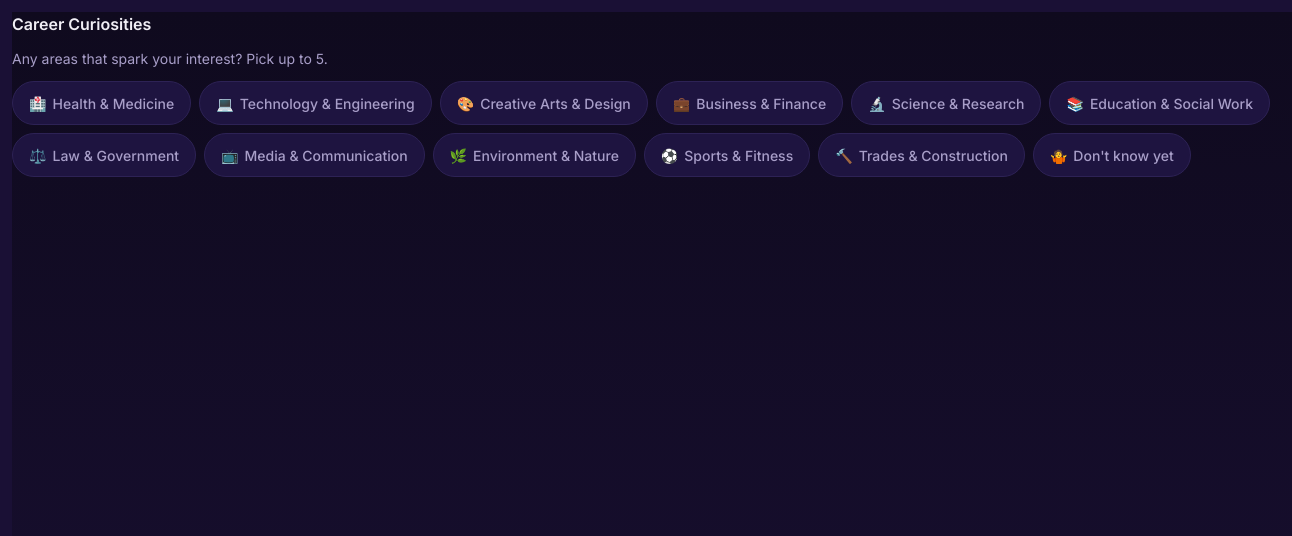
Scenario: CuriositiesPicker › frees a slot when a pick is tapped again
Click the checkbox labelled "Health & Medicine": (102, 103) [12,81,191,125]
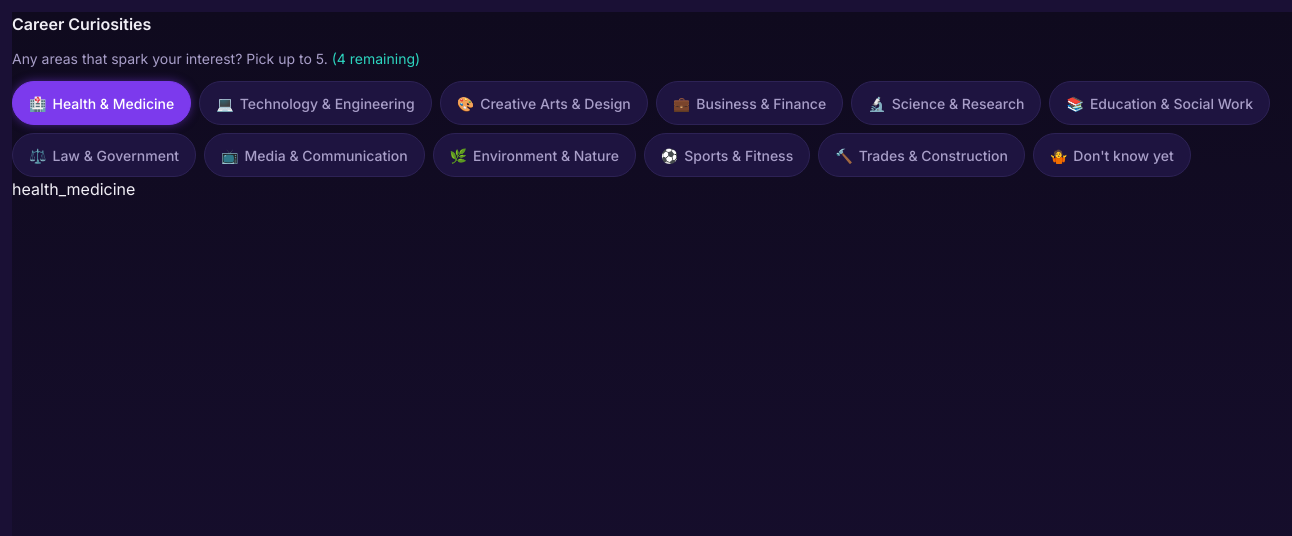
Click the checkbox labelled "Technology & Engineering": (315, 103) [199,81,432,125]
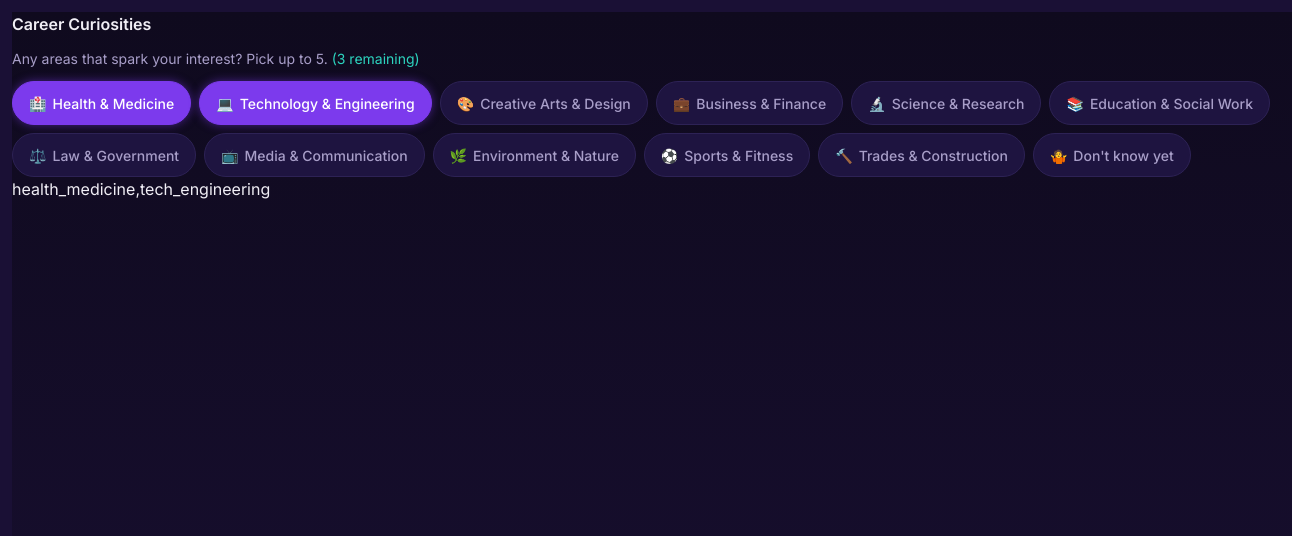
Click the checkbox labelled "Creative Arts & Design": (544, 103) [440,81,648,125]
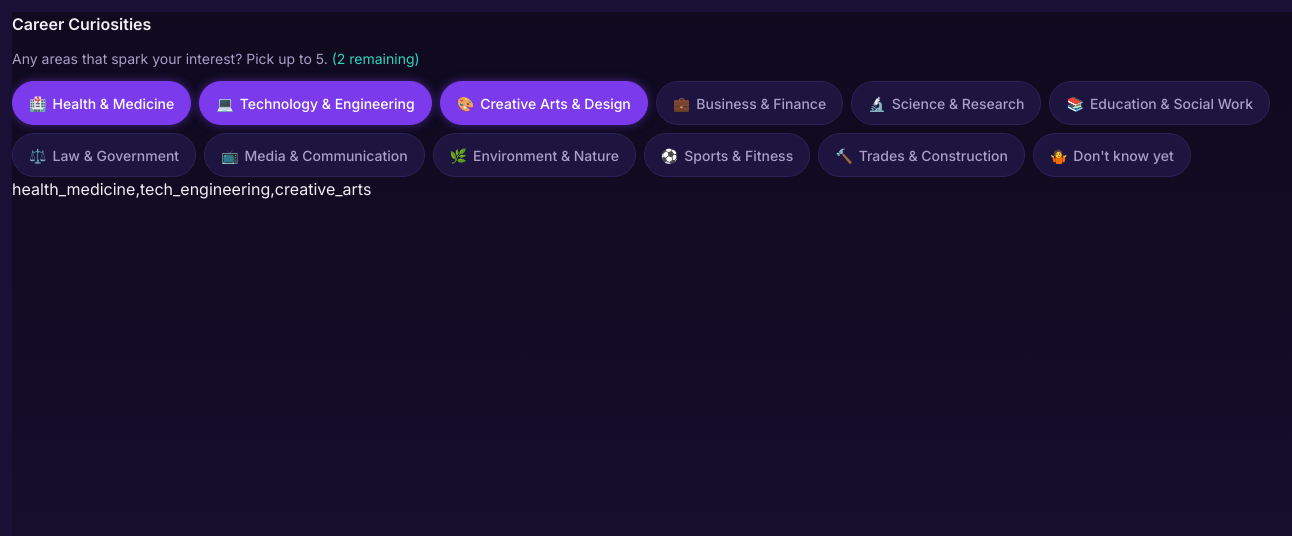
Click the checkbox labelled "Business & Finance": (750, 103) [656,81,843,125]
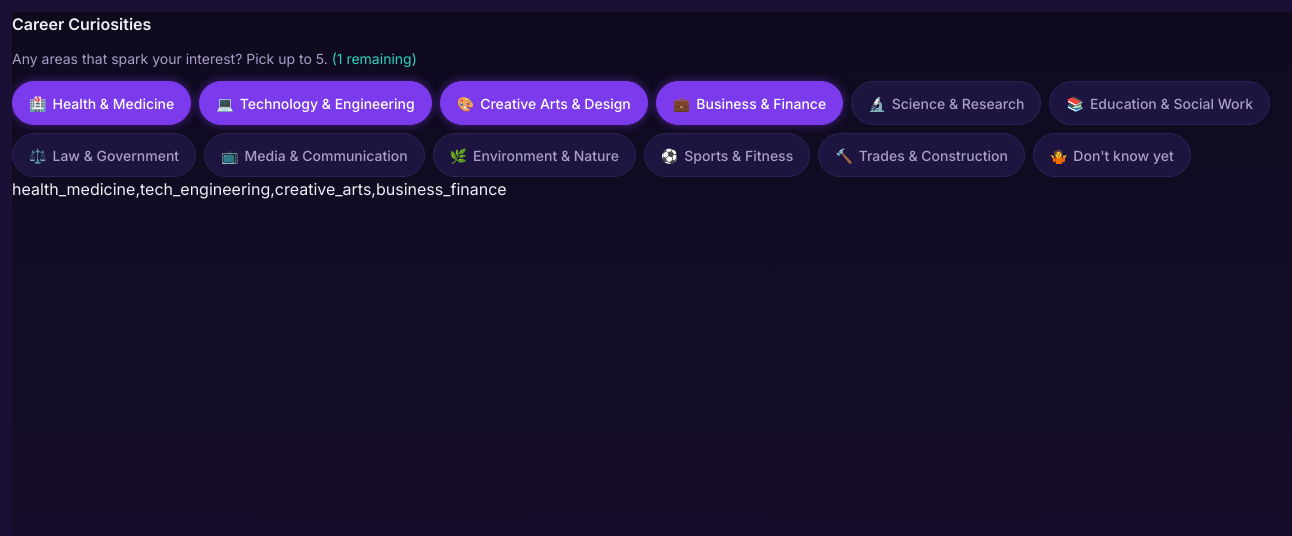
Click the checkbox labelled "Science & Research": (946, 103) [851,81,1042,125]
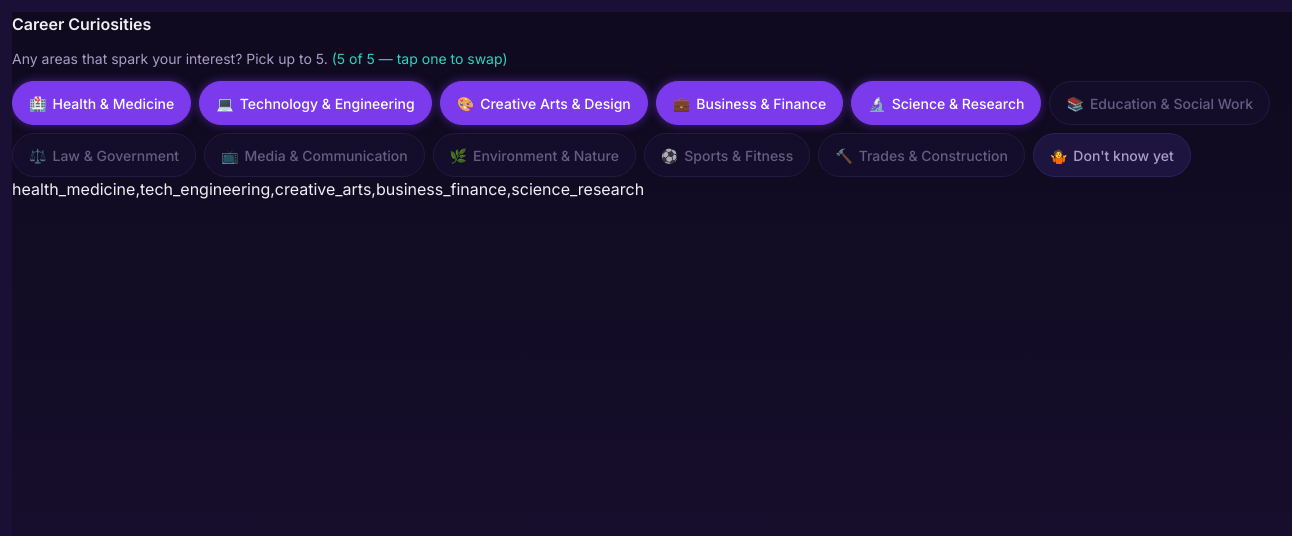
Click the checkbox labelled "Health & Medicine": (102, 103) [12,81,191,125]
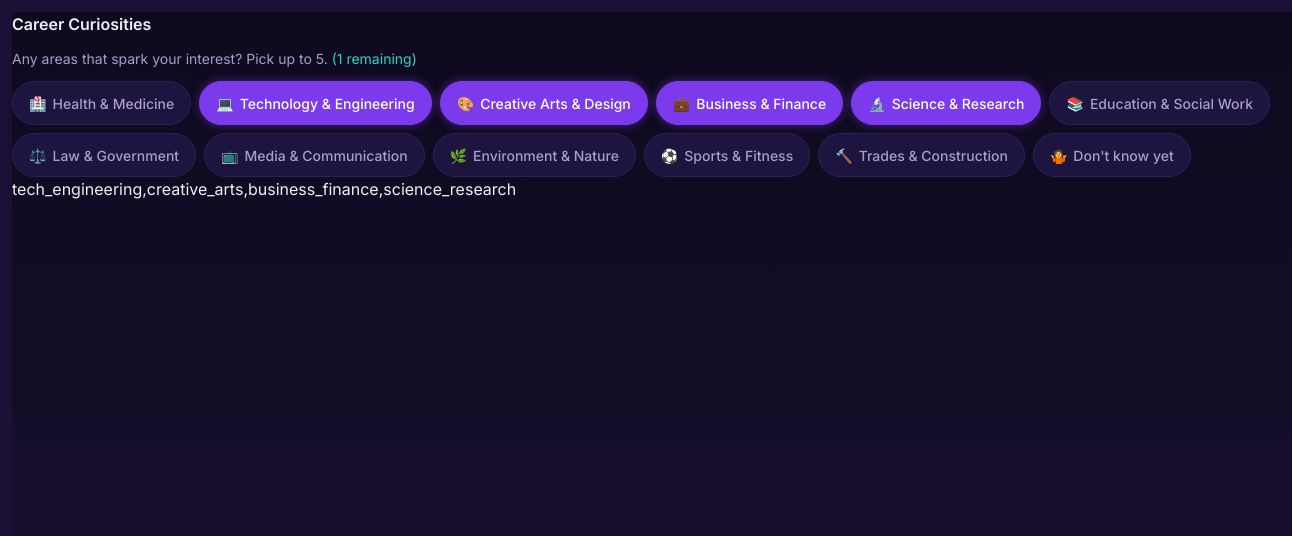
Expected: the text "(1 remaining)" is shown, [328,50,417,67]
